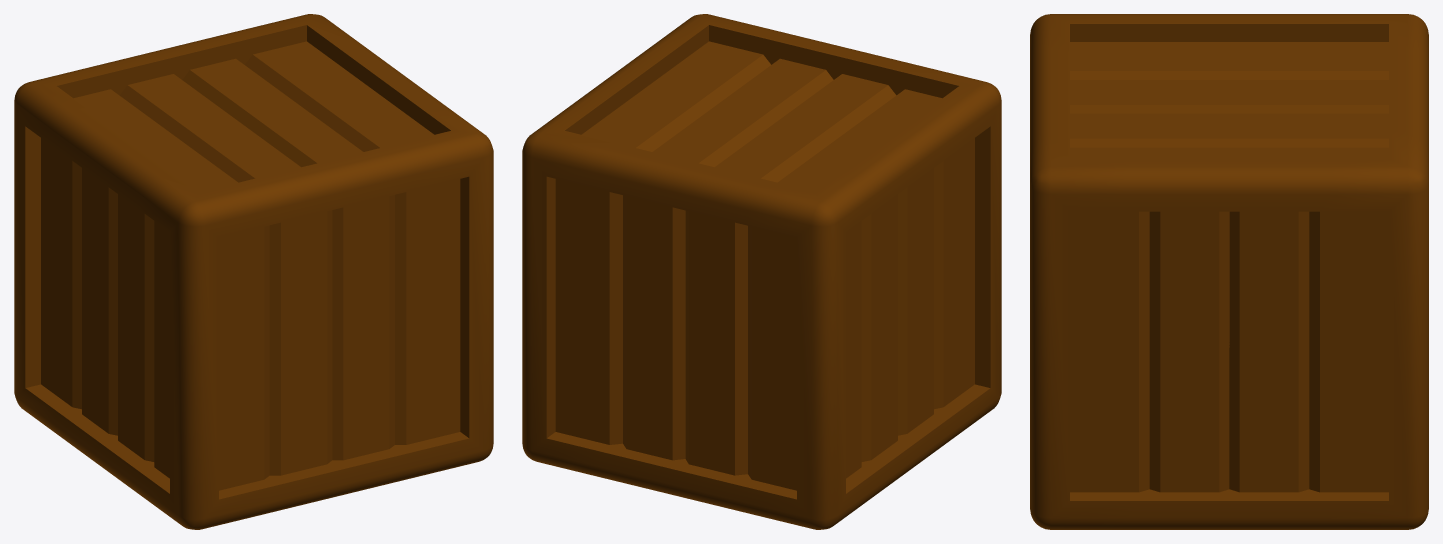
Rendered from small_box.fbx.
The picture shows the model from 3 angles, left to right: view 1: azimuth 30°, elevation 25°; view 2: azimuth 150°, elevation 25°; view 3: azimuth 270°, elevation 25°; orthographic projection. The views are drawn at different scales.
Visible parts, largest first — view 1: Cube; view 2: Cube; view 3: Cube.
Boxes of the visible parts, x1=… form: Cube: x1=14, y1=14, x2=493, y2=529; Cube: x1=522, y1=14, x2=1001, y2=529; Cube: x1=1030, y1=14, x2=1428, y2=529.
Bounding box in the file's own units: 200 × 200 × 200.
